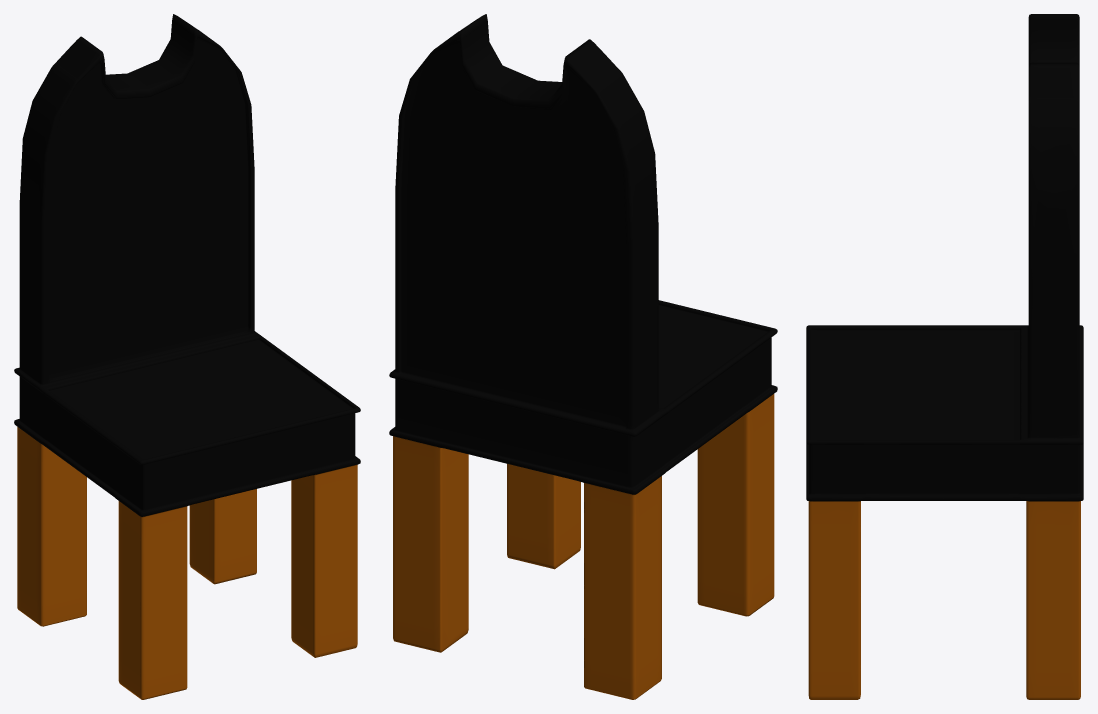
File: Chair.fbx
3 renders of one model, left to right at view 1: azimuth 30°, elevation 25°; view 2: azimuth 150°, elevation 25°; view 3: azimuth 270°, elevation 25°, orthographic. The views are drawn at different scales.
Visible parts, largest first — view 1: pCube1; view 2: pCube1; view 3: pCube1.
Boxes of the visible parts, <box> form: pCube1: <box>14,14,360,699</box>; pCube1: <box>389,14,777,699</box>; pCube1: <box>806,14,1083,699</box>.
Bounding box in the file's own units: 61.85 × 150 × 62.14.
